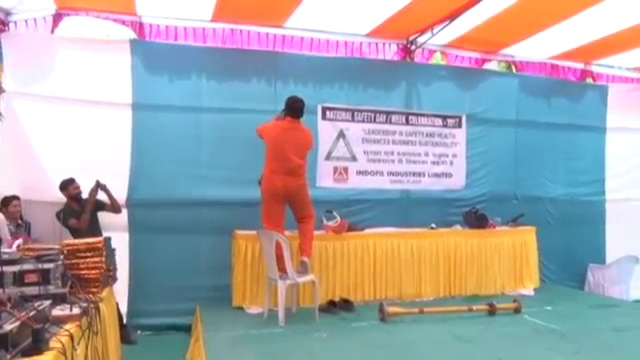helmet_off: (1, 194, 23, 225), (58, 177, 84, 202), (282, 95, 306, 122)
person: (259, 96, 318, 273), (52, 179, 125, 242), (1, 191, 35, 246)
